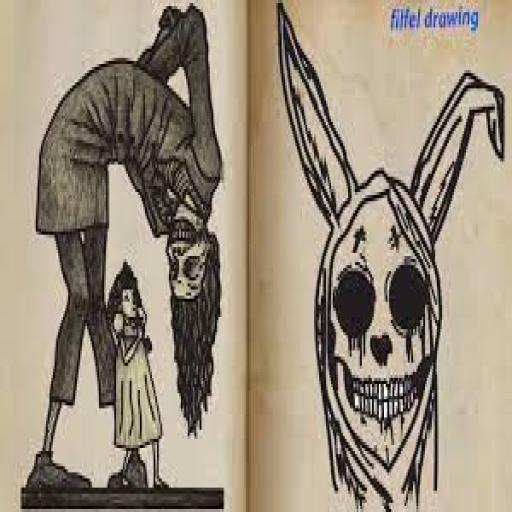person: (13, 8, 236, 497), (101, 261, 163, 495)
